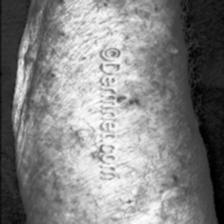Non-Cancerous Skin Condition: (30, 0, 94, 224), (120, 0, 180, 224)
